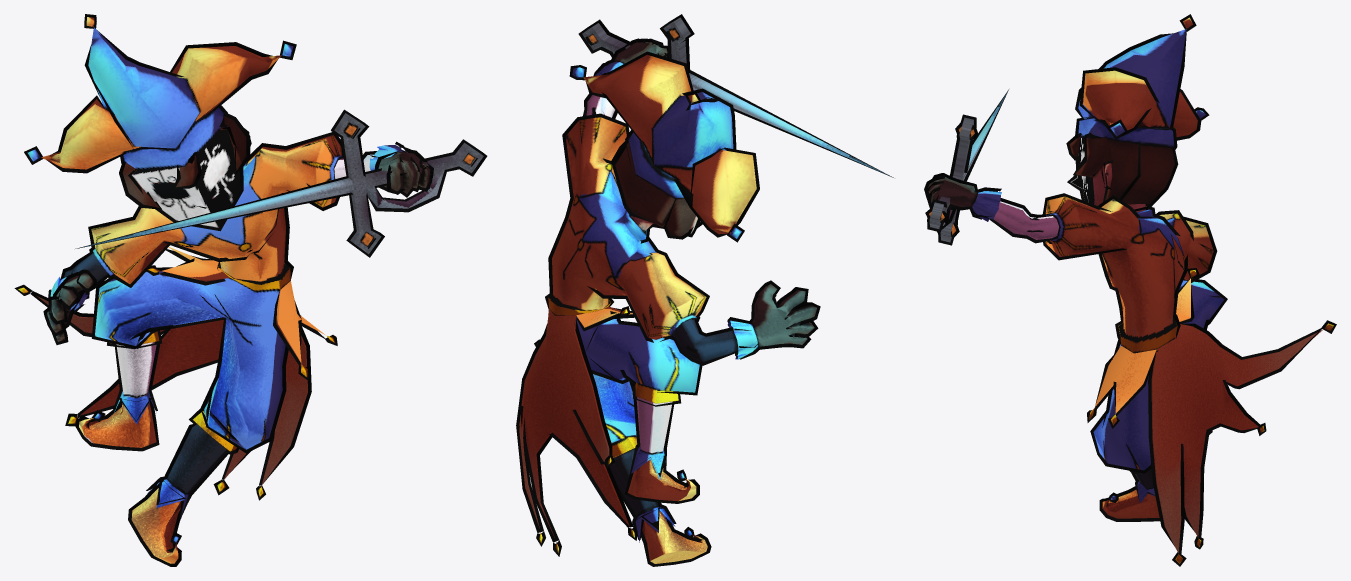
File: franzie.glb
3 views of the same model, side by side, from view 1: azimuth 30°, elevation 25°; view 2: azimuth 150°, elevation 25°; view 3: azimuth 270°, elevation 25° (orthographic). The views are drawn at different scales.
Visible parts, largest first — view 1: Body; view 2: Body; view 3: Body.
Boxes of the visible parts, x1,y1,x2,y2 form: Body: (14, 14, 487, 566); Body: (516, 14, 893, 566); Body: (924, 14, 1336, 566).
Size of the model in its own units: 1.11 by 1.52 by 1.16.
Materials: 5 (4 with a texture image).
